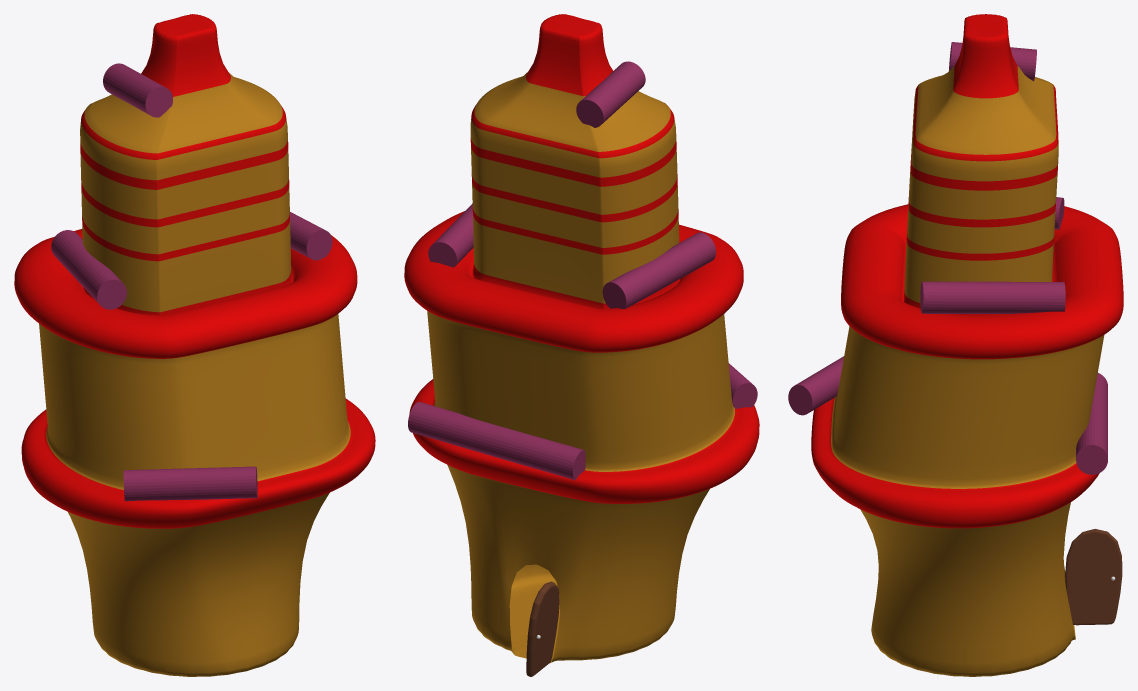
Rendered from antHouse.fbx.
3 views of the same model, side by side, from view 1: azimuth 30°, elevation 25°; view 2: azimuth 150°, elevation 25°; view 3: azimuth 270°, elevation 25° (orthographic).
Parts seen in each view (by area): view 1: Circle, Cylinder.004, Cylinder.001, Cylinder, Cylinder.002; view 2: Circle, Cylinder.003, Cylinder.001, Cylinder, Cylinder.002, Cylinder.004; view 3: Circle, Cylinder.002, Cylinder.003, Cylinder.004, Cylinder.
Boxes of the visible parts, <box> form: Circle: <box>14,14,375,676</box>; Cylinder.004: <box>123,466,257,501</box>; Cylinder.001: <box>51,230,126,309</box>; Cylinder: <box>103,63,172,117</box>; Cylinder.002: <box>290,212,332,260</box>; Circle: <box>404,14,759,676</box>; Cylinder.003: <box>408,402,585,480</box>; Cylinder.001: <box>602,232,716,309</box>; Cylinder: <box>576,61,645,127</box>; Cylinder.002: <box>428,203,473,267</box>; Cylinder.004: <box>728,363,757,408</box>; Circle: <box>811,14,1123,676</box>; Cylinder.002: <box>920,281,1065,313</box>; Cylinder.003: <box>1076,373,1107,474</box>; Cylinder.004: <box>788,356,843,415</box>; Cylinder: <box>949,42,1036,81</box>.
Size of the model in its own units: 482 by 898 by 448.
